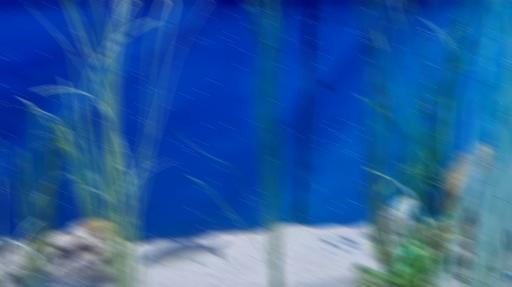Fish: (142, 238, 227, 267)
